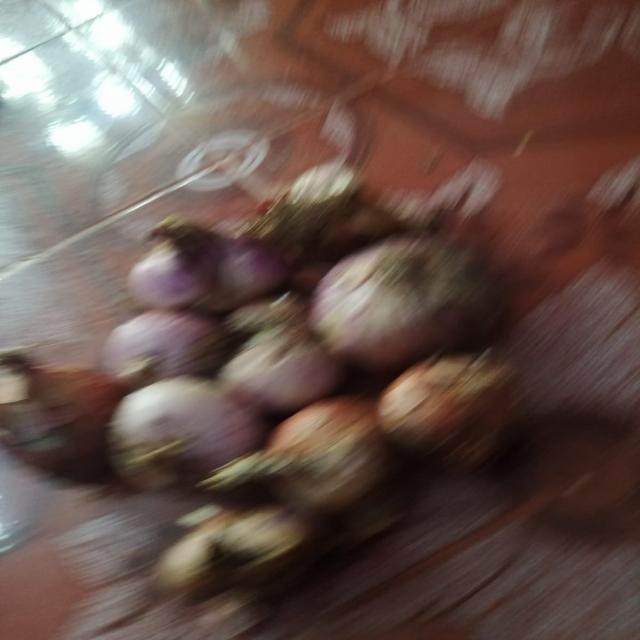rotten: (203, 529, 260, 581)
